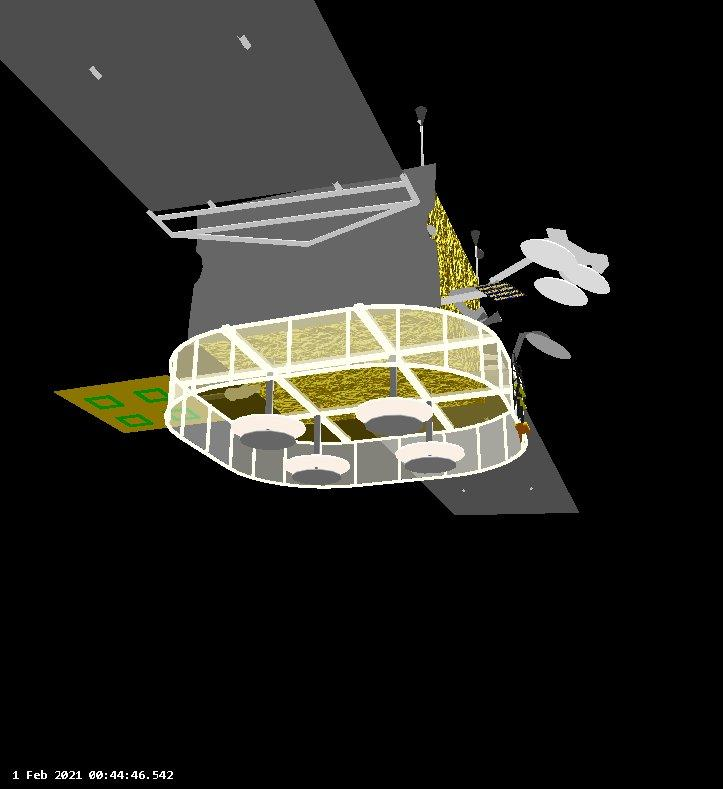antenna: (354, 395, 435, 439), (229, 411, 306, 449), (283, 451, 353, 487), (396, 439, 465, 474), (520, 239, 581, 272), (532, 275, 590, 308), (562, 261, 613, 296), (522, 331, 574, 361)
body: (164, 163, 531, 496)
solar: (0, 0, 423, 251), (360, 387, 582, 519), (52, 373, 227, 436)
thruster: (483, 306, 504, 328), (414, 104, 431, 131), (469, 224, 482, 253)
